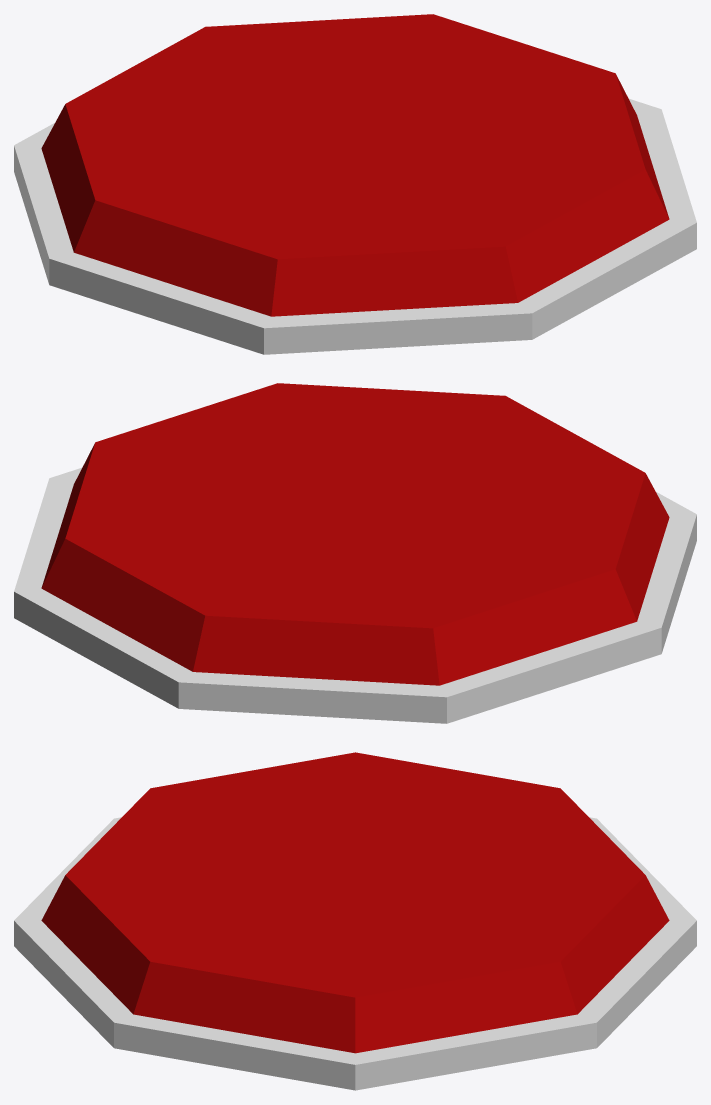
File: NodeOff.fbx
3 renders of one model, top to bottom at view 1: azimuth 30°, elevation 25°; view 2: azimuth 150°, elevation 25°; view 3: azimuth 270°, elevation 25°, orthographic. The views are drawn at different scales.
Parts seen in each view (by area): view 1: Cylinder.001, Cylinder; view 2: Cylinder.001, Cylinder; view 3: Cylinder.001, Cylinder.
Boxes of the visible parts, x1,y1,x2,y2 form: Cylinder.001: (41,14,669,316); Cylinder: (14,98,696,354); Cylinder.001: (41,383,669,685); Cylinder: (14,467,696,723); Cylinder.001: (41,752,669,1053); Cylinder: (14,817,696,1090).
Bounding box in the file's own units: 1834 × 211 × 1834.
